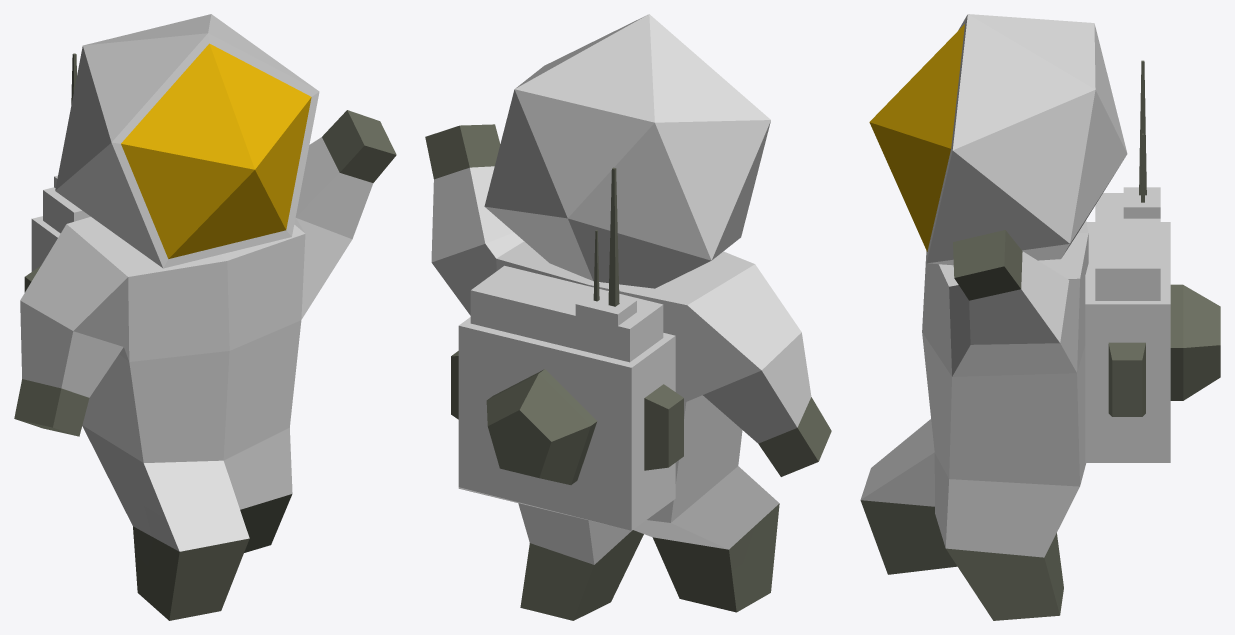
Rendered from astronautWalking.fbx.
The picture shows the model from 3 angles, left to right: view 1: azimuth 30°, elevation 25°; view 2: azimuth 150°, elevation 25°; view 3: azimuth 270°, elevation 25°; orthographic projection. The views are drawn at different scales.
Parts seen in each view (by area): view 1: Player; view 2: Player; view 3: Player.
Boxes of the visible parts, left/top/right/bottom form: Player: left=14, top=14, right=396, bottom=620; Player: left=425, top=14, right=831, bottom=620; Player: left=860, top=14, right=1220, bottom=620.
Bounding box in the file's own units: 378 × 540 × 307.
